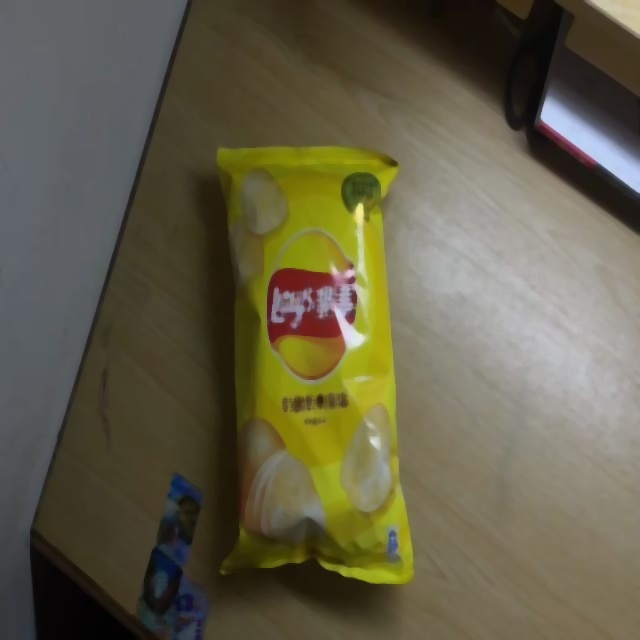Lay-s-original: (216, 144, 415, 581)
